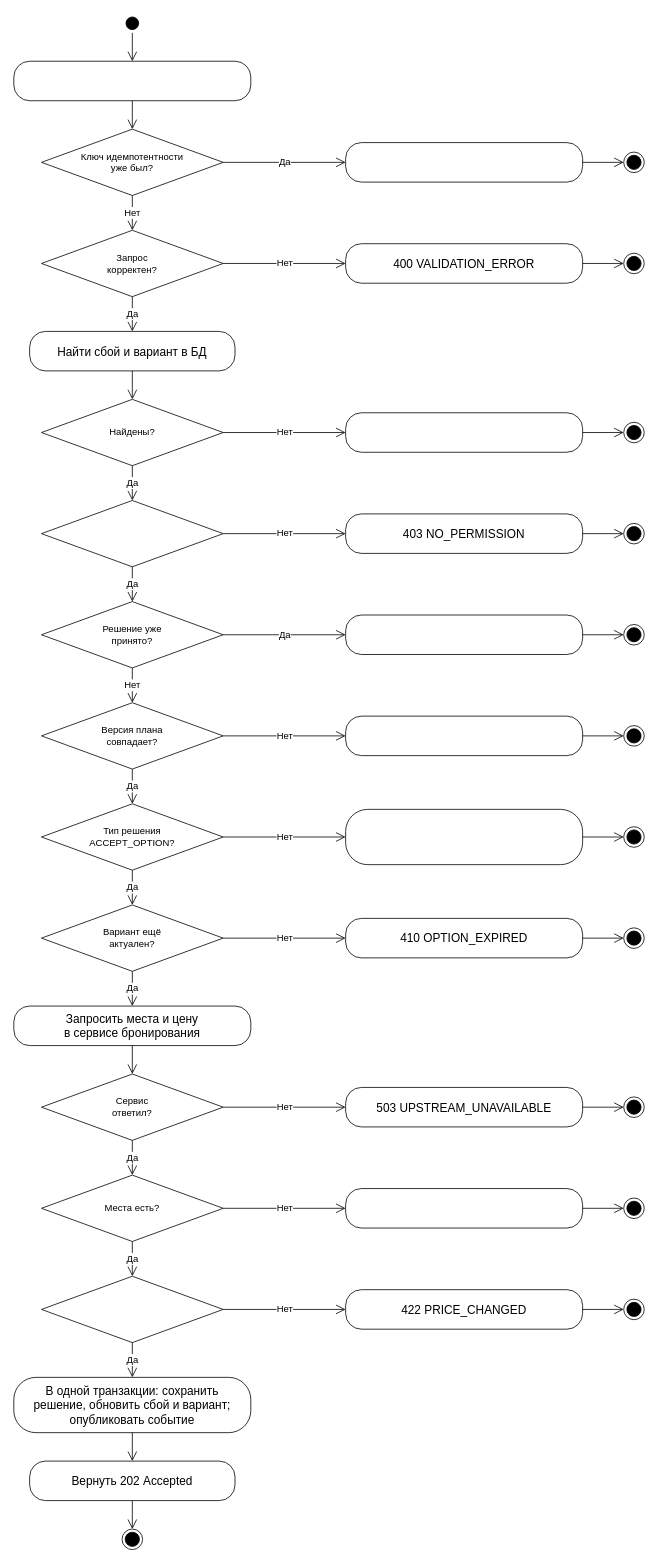
The diagram is 658 pixels wide and 1563 high, and some of its shapes have lost their labels. Each missing label, with the centre of its shape:
"404 NOT_FOUND" belongs at point 464,432.
"409 ALREADY_DECIDED" belongs at point 464,634.
"409 PLAN_VERSION_CONFLICT" belongs at point 464,735.
"422 OPTION_NOT_AVAILABLE" belongs at point 464,1208.
"Вернуть сохранённый ответ" belongs at point 464,162.
"Есть право на решение?" belongs at point 132,533.
"Получить запрос POST /decision" belongs at point 132,80.
"Сохранить «оставить как есть», закрыть сбой, вернуть 202" belongs at point 464,837.
"Цена в пределах подтверждённой?" belongs at point 132,1309.
